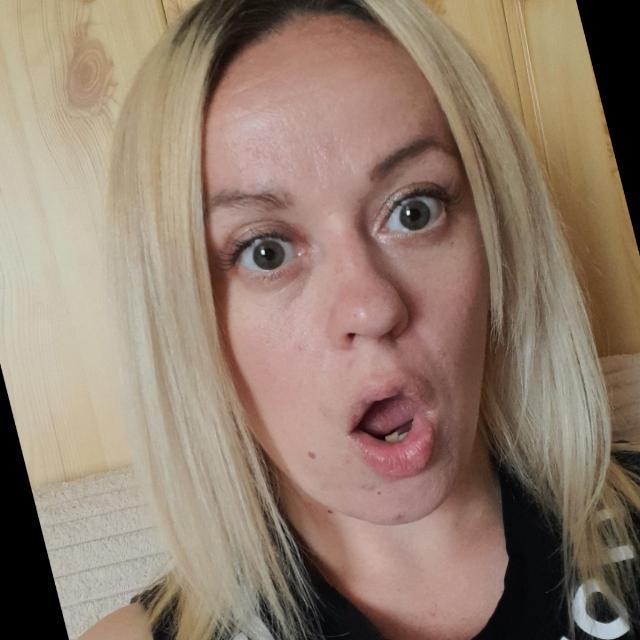surprised: (102, 67, 598, 596)
